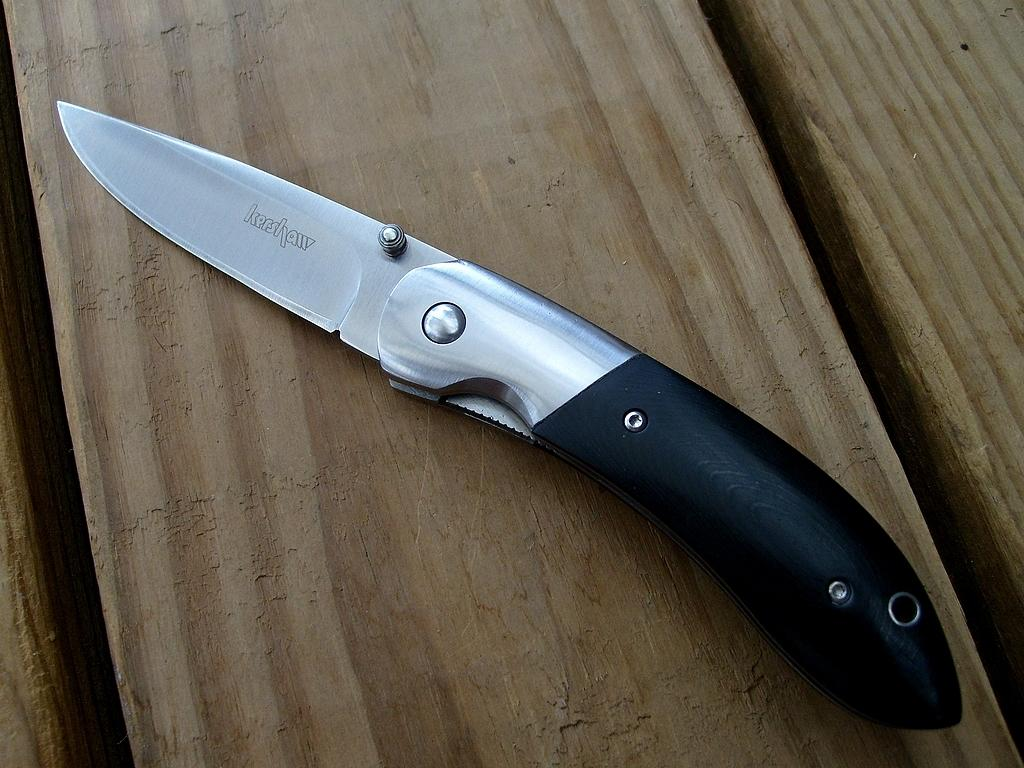Knife: (55, 98, 965, 729)
